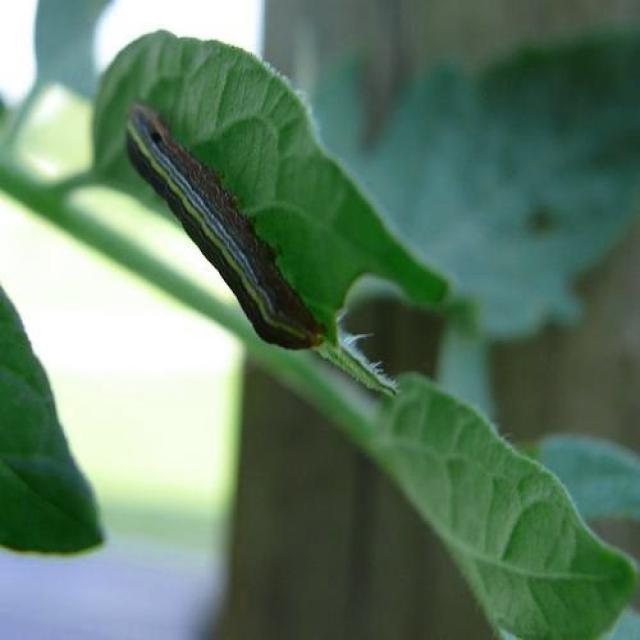army worm: (121, 97, 337, 355)
